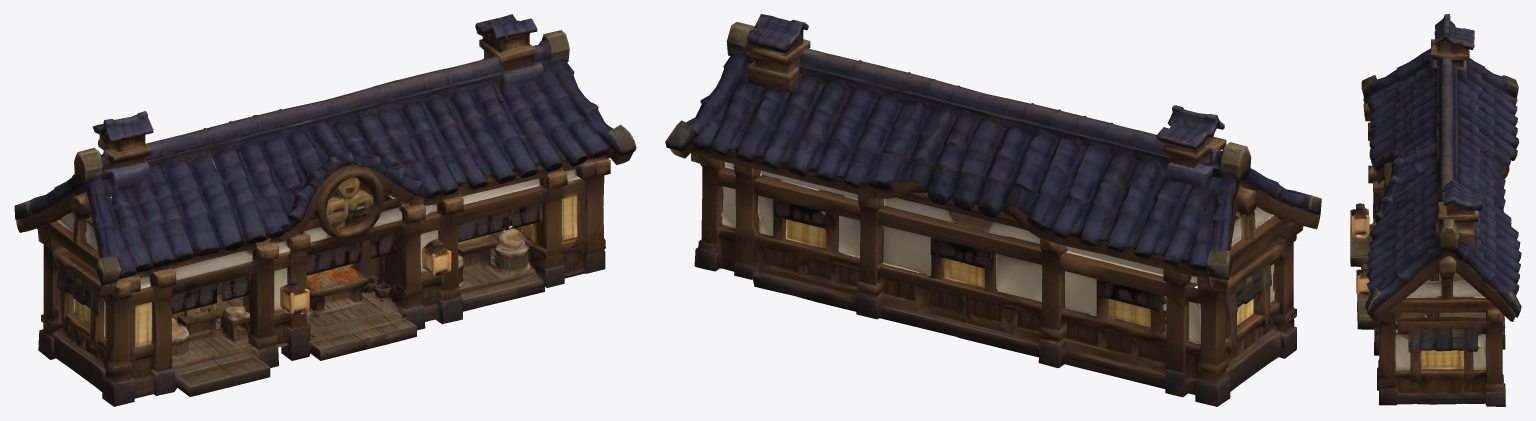
The picture shows the model from 3 angles, left to right: view 1: azimuth 30°, elevation 25°; view 2: azimuth 150°, elevation 25°; view 3: azimuth 270°, elevation 25°; orthographic projection. The views are drawn at different scales.
Visible parts, largest first — view 1: compact__finance_1__native_mobile; view 2: compact__finance_1__native_mobile; view 3: compact__finance_1__native_mobile.
Boxes of the visible parts, <box> form: compact__finance_1__native_mobile: <box>14,14,636,406</box>; compact__finance_1__native_mobile: <box>665,14,1321,406</box>; compact__finance_1__native_mobile: <box>1350,14,1521,406</box>.
Size of the model in its own units: 1 by 0.4389 by 0.3223.
Materials: 1 (1 with a texture image).
